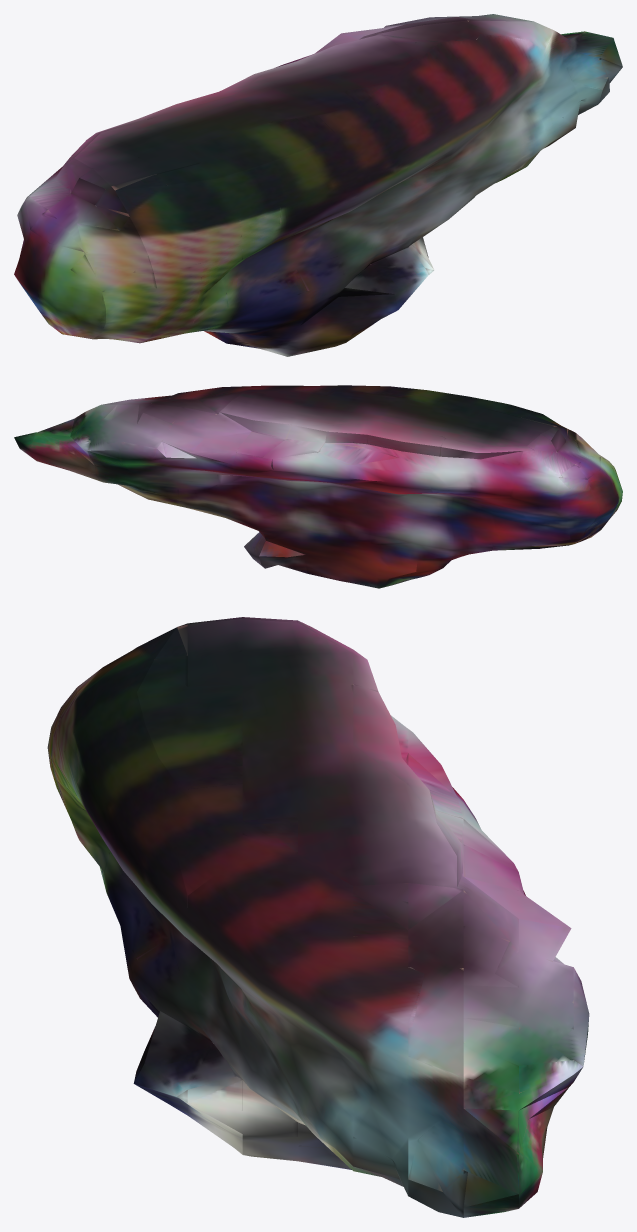
Rendered from july24scan-Sense.obj.
The picture shows the model from 3 angles, top to bottom: view 1: azimuth 30°, elevation 25°; view 2: azimuth 150°, elevation 25°; view 3: azimuth 270°, elevation 25°; orthographic projection. The views are drawn at different scales.
Visible parts, largest first — view 1: Sense; view 2: Sense; view 3: Sense.
Part boxes in pixels (box(x1,y1,x2,y2)): Sense: box(14, 14, 622, 356); Sense: box(14, 385, 622, 588); Sense: box(47, 617, 589, 1217).
Bounding box in the file's own units: 13.44 × 4.41 × 6.07.
